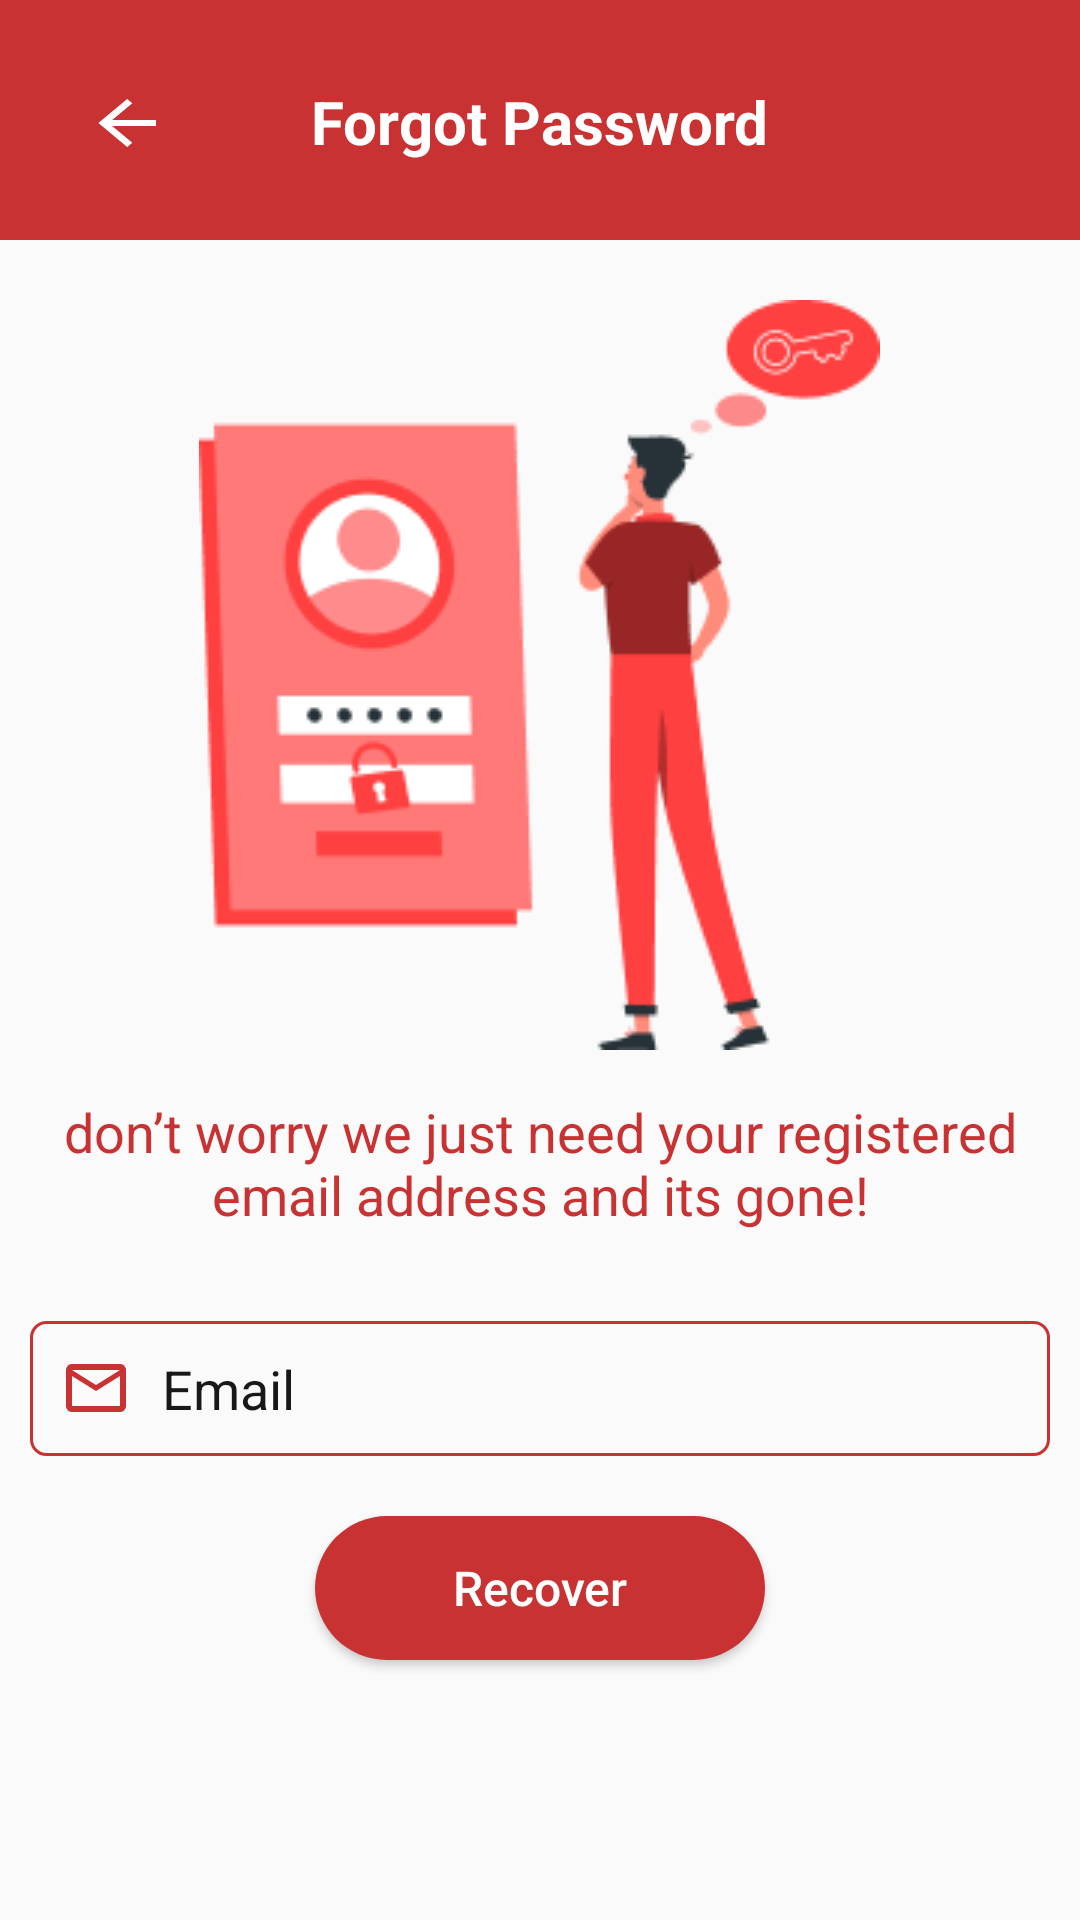

Where icons sit on this 1080 × 1920 app screen, as [x1,y1,x2,y2]:
arrow: [98,99,156,147]
